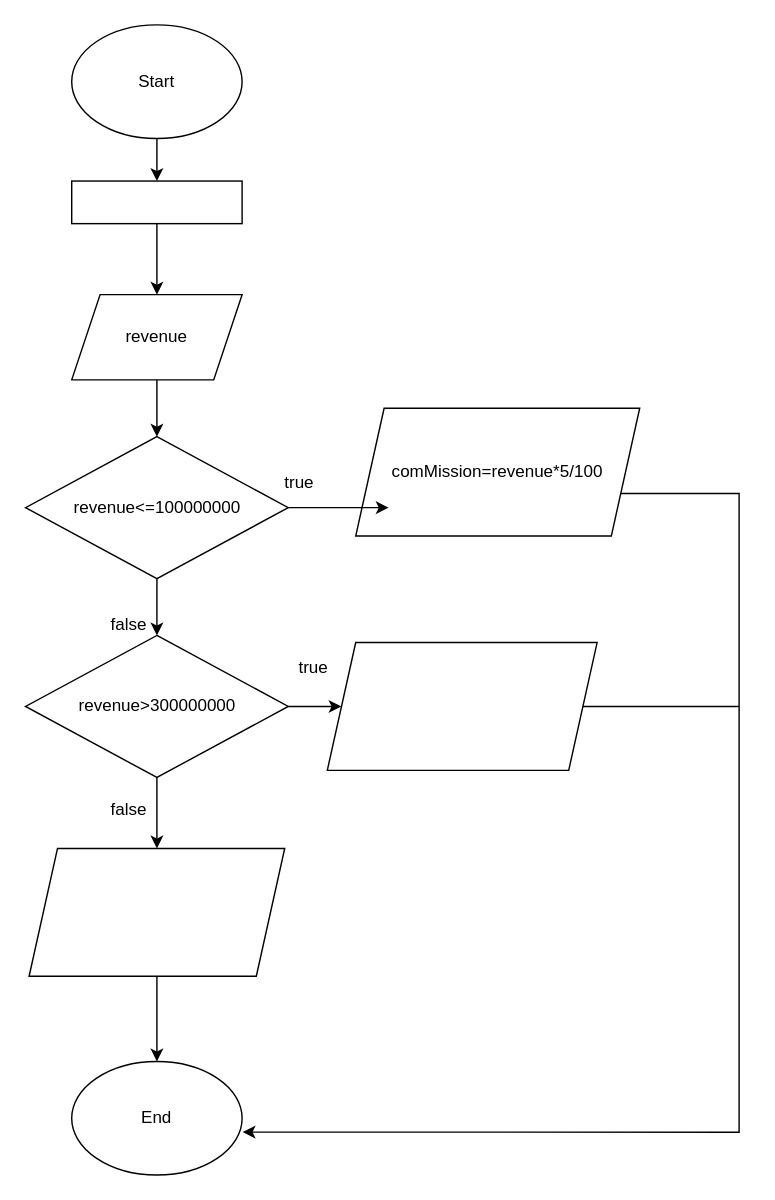
Image size: 775x1200. Some labels were removed from this diagram. The box of each missing label's shape, as (x1, y1, x2, y2) in pixels:
comMission: (70, 180, 242, 224)
comMission=revenue*10/100: (28, 847, 285, 976)
comMission=revenue*20/100: (326, 641, 597, 770)
